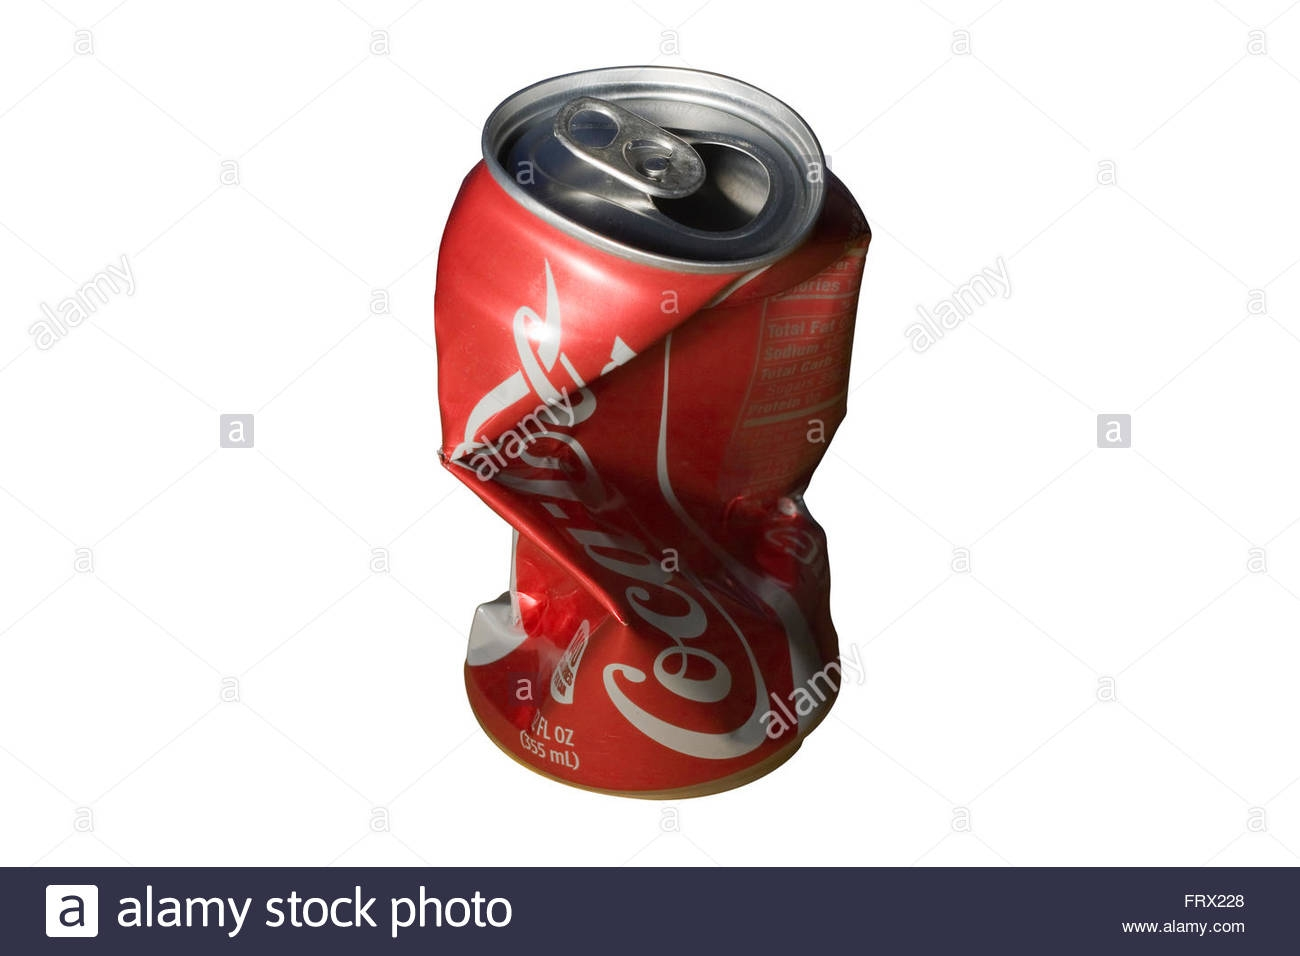metal: (398, 46, 885, 816)
